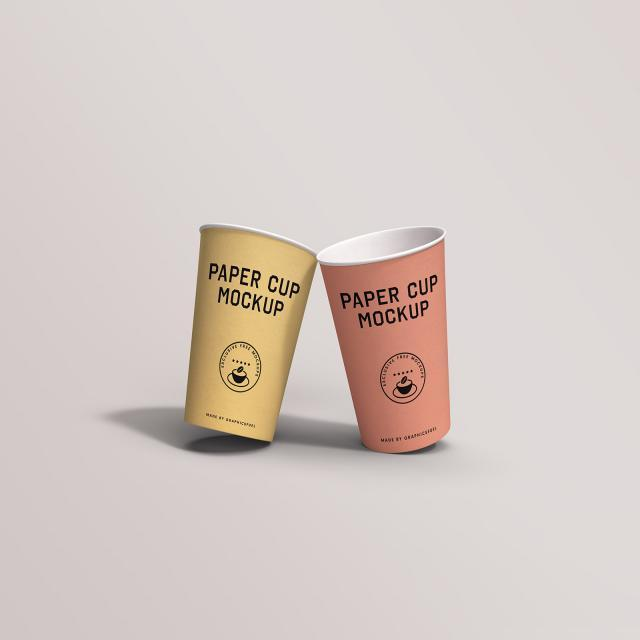trash: (316, 224, 454, 456), (182, 220, 320, 446)
